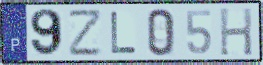0: (146, 7, 176, 58)
5: (184, 8, 213, 56)
9: (29, 7, 66, 59)
H: (218, 6, 254, 57)
L: (109, 10, 138, 55)
Z: (67, 8, 104, 58)
